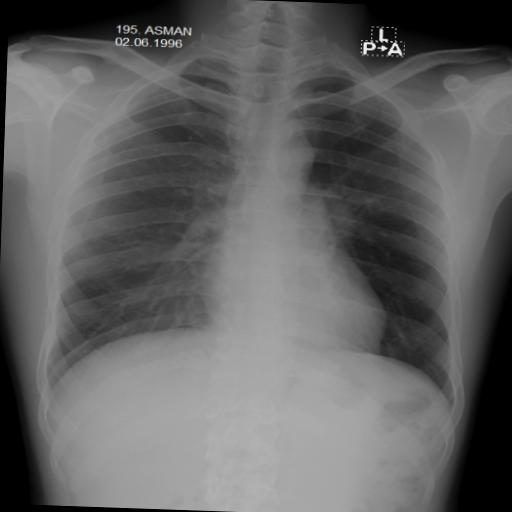normal: (28, 26, 480, 428)
